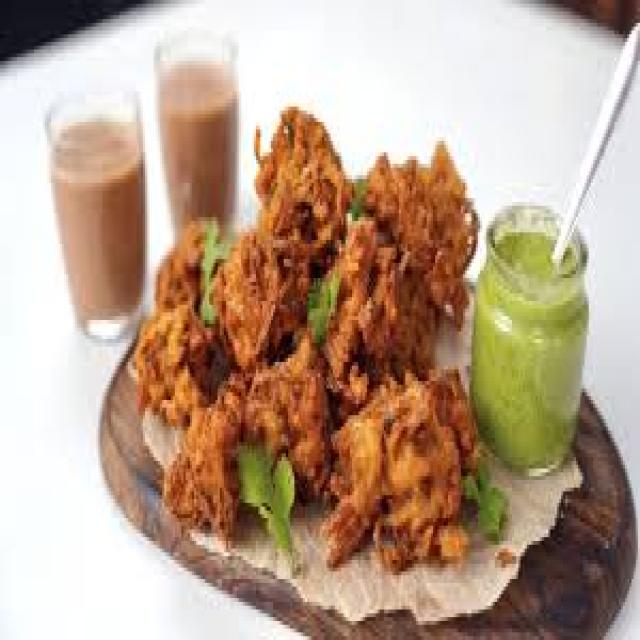BAJI: (113, 95, 484, 573)
